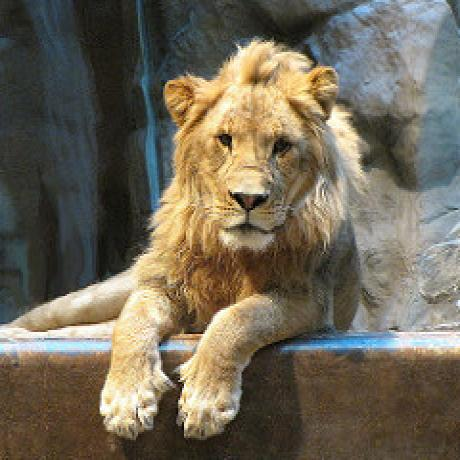Lion: (5, 39, 364, 441)
